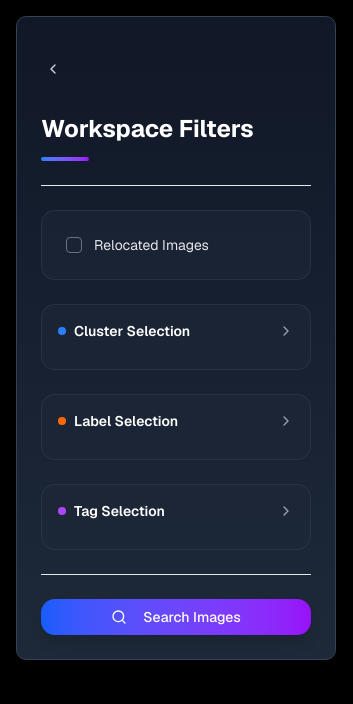
it: FilterSidebar › label selection › shows 'No labels available' when no labels exist
Click the text "Label Selection".
click(126, 421)  # box [74,411,178,431]
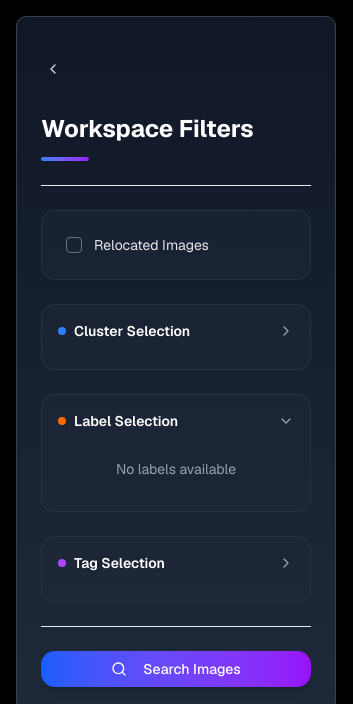
Now the text "No labels available" is shown, box [116,460,236,478]
